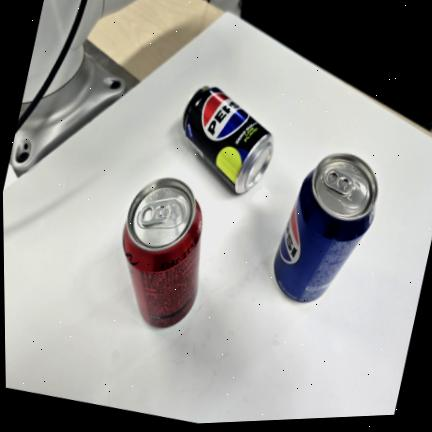can_coke_zero: (122, 178, 202, 328)
can_pepsi: (274, 153, 378, 302)
can_pepsi_zero: (183, 87, 273, 193)
